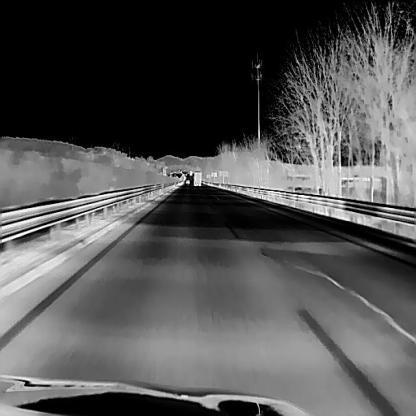car: (193, 170, 202, 185), (185, 177, 189, 184)
